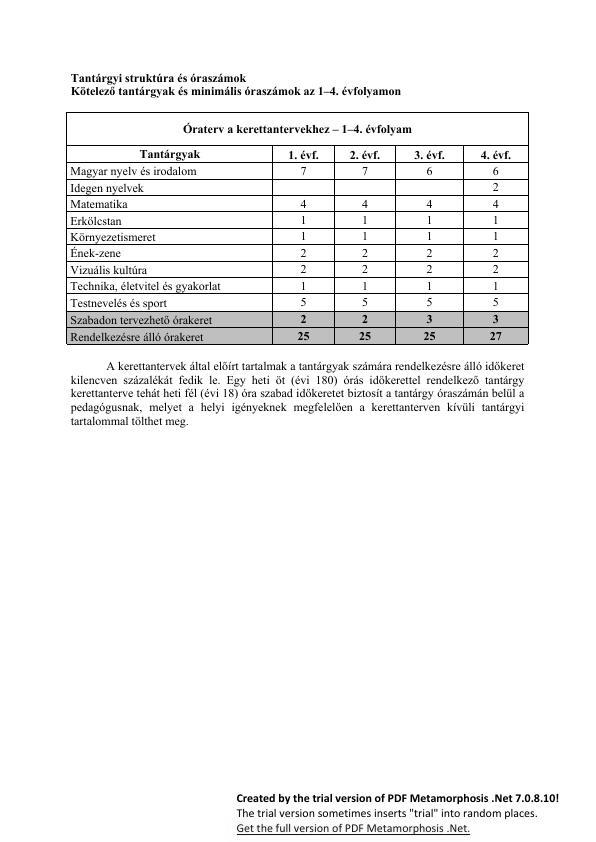table: (63, 110, 533, 350)
text: (62, 357, 535, 436), (66, 67, 407, 98)
